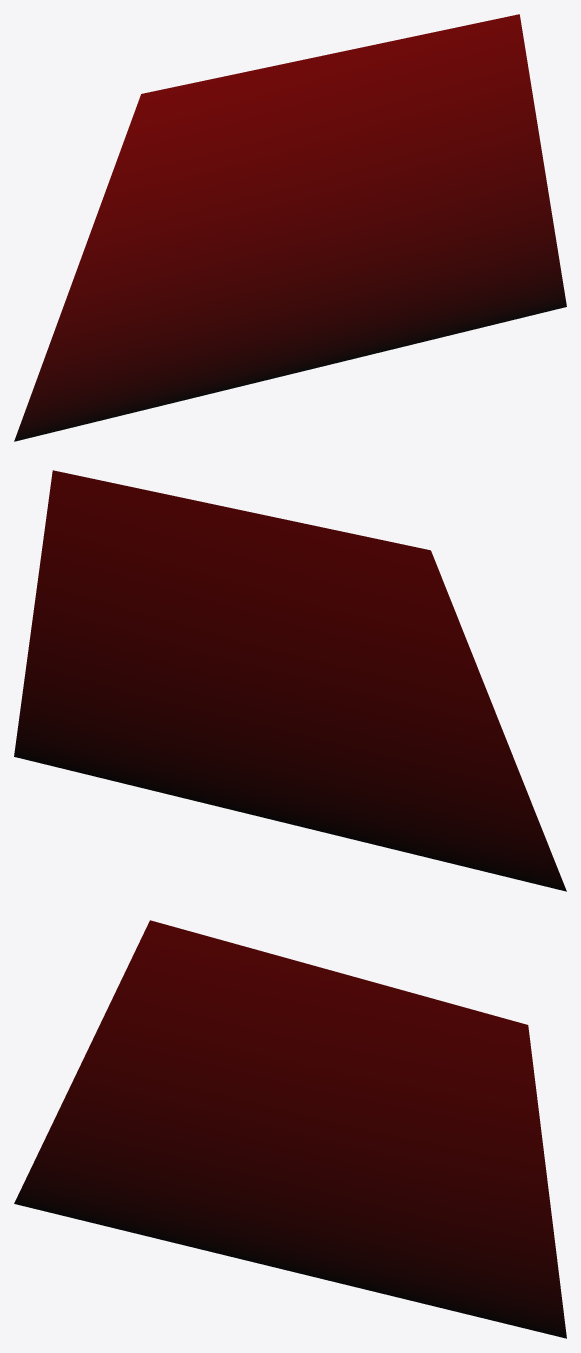
Rendered from Grass8.glb.
The picture shows the model from 3 angles, top to bottom: view 1: azimuth 30°, elevation 25°; view 2: azimuth 150°, elevation 25°; view 3: azimuth 330°, elevation 25°; orthographic projection.
Parts seen in each view (by area): view 1: Grass.007; view 2: Grass.007; view 3: Grass.007.
Boxes of the visible parts, <box> form: Grass.007: <box>14,14,566,441</box>; Grass.007: <box>14,470,566,891</box>; Grass.007: <box>14,920,566,1338</box>.
Size of the model in its own units: 0.1961 by 0.1059 by 0.00272.
